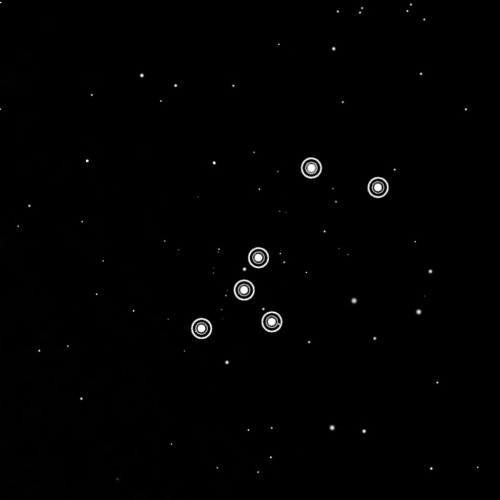canis_major: (183, 152, 396, 347)
